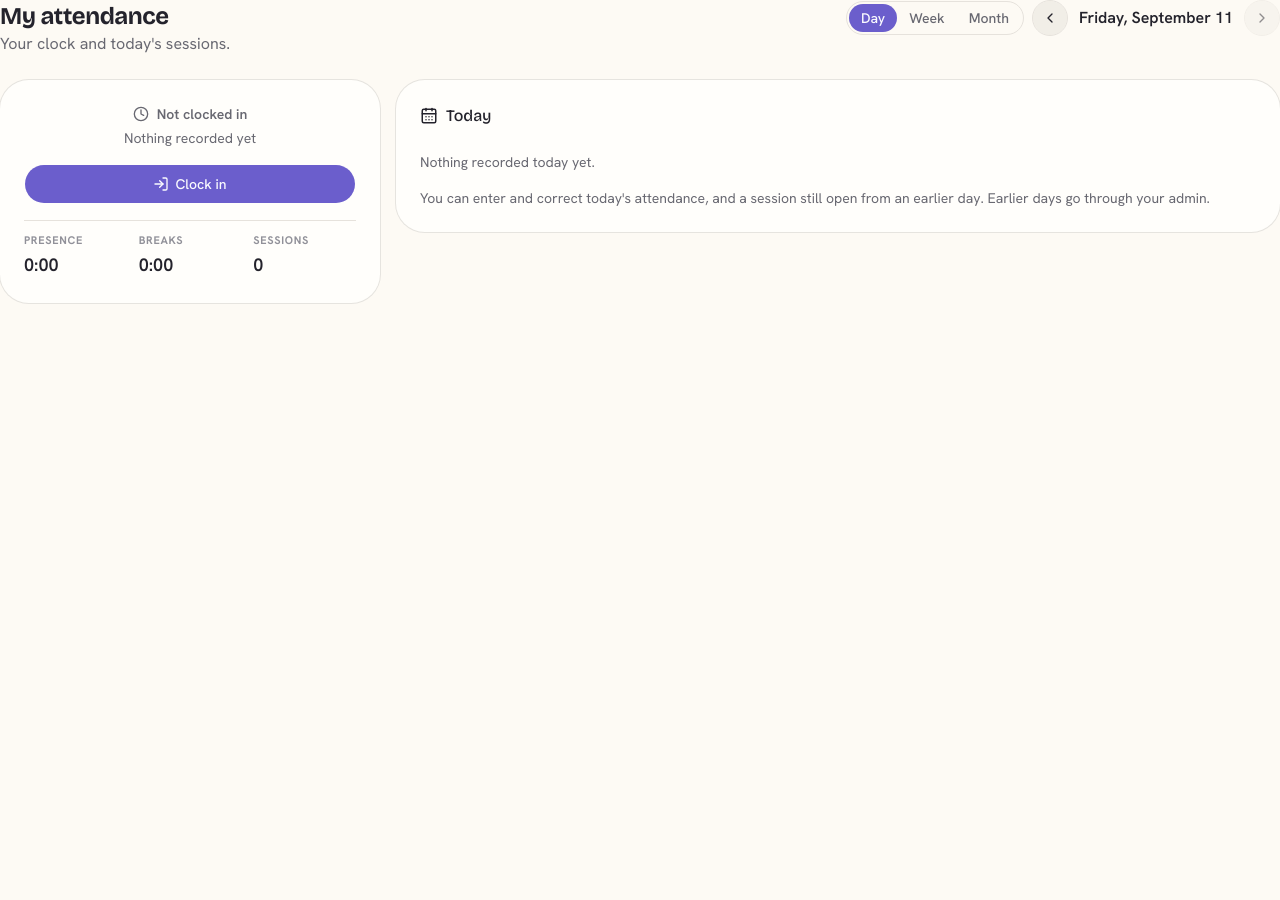
MyAttendanceScreen › a day and the self-service window › offers only the open session of an earlier day outside the window
The image size is (1280, 900).
Click the button named "Previous": (1050, 18) [1032,0,1068,36]
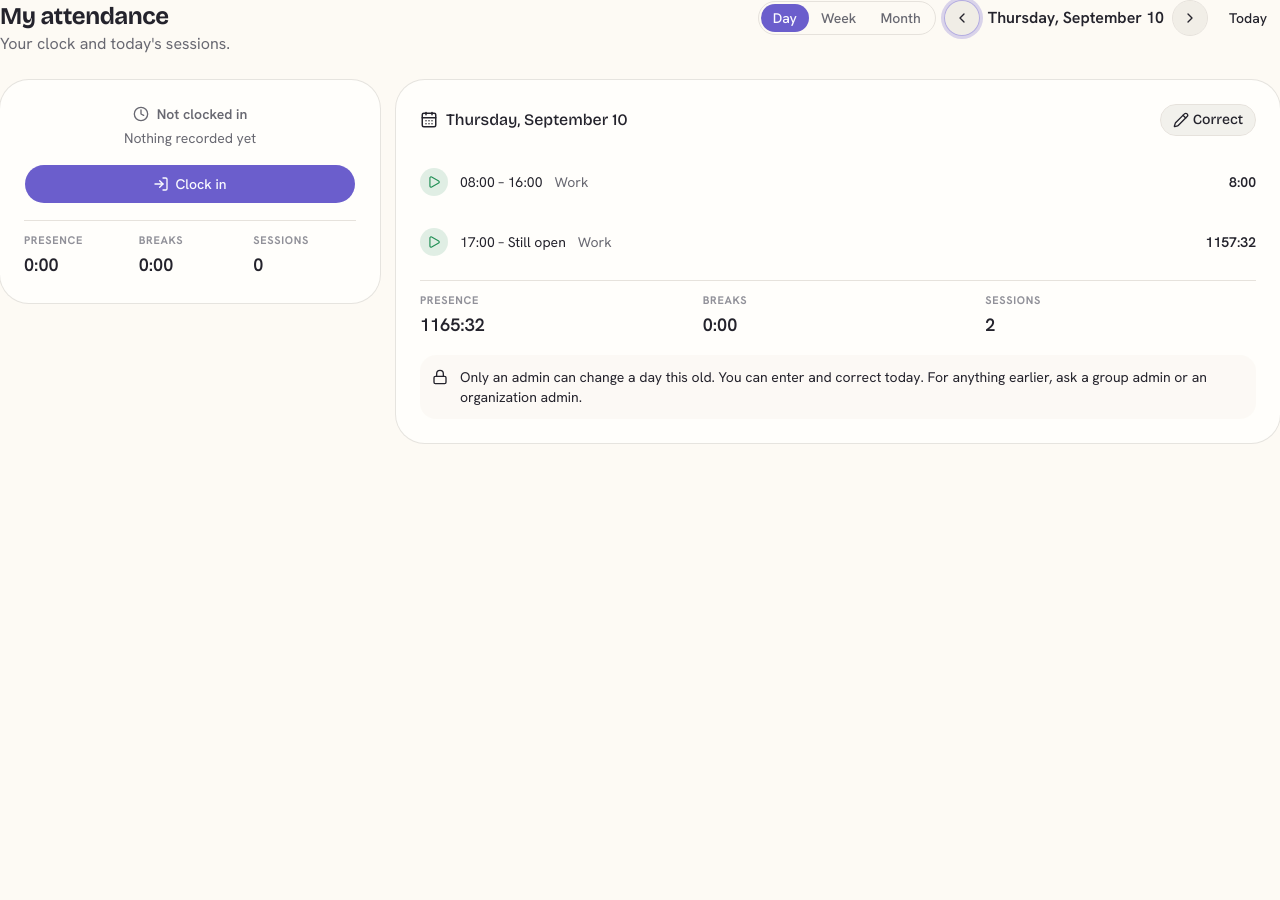
Click the button "Correct": (1208, 120) [1160,104,1256,136]
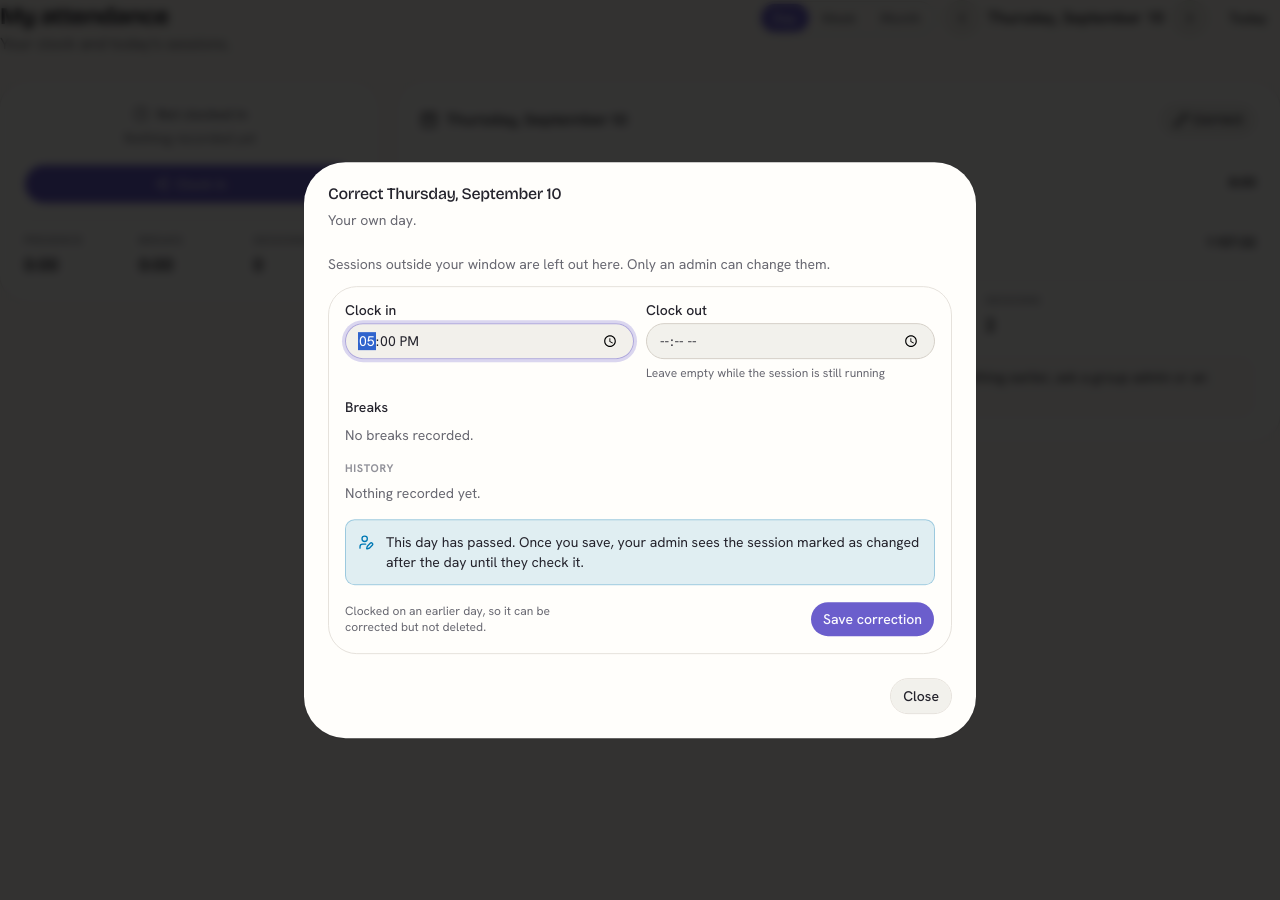
expect the element with test id "correction-session-open" is shown: met, box [328,286,952,654]
expect the text "Sessions outside your window are left out here. Only an admin can change them." is shown: met, box [328,255,830,273]
